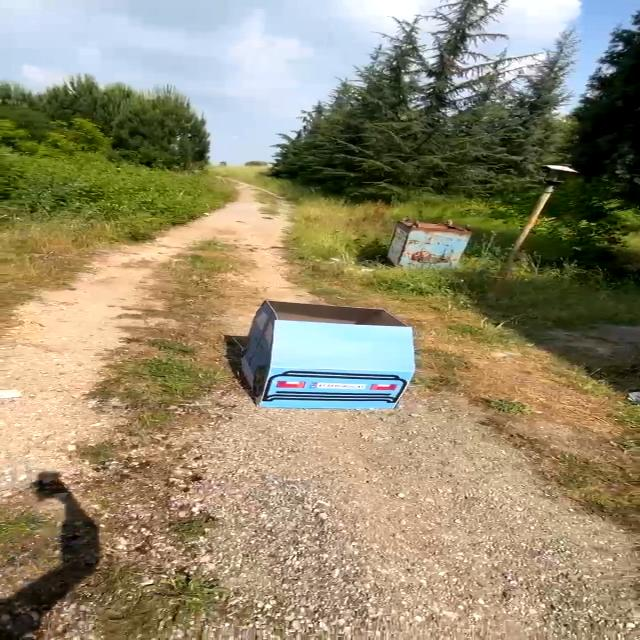blue_car: (205, 291, 448, 424)
